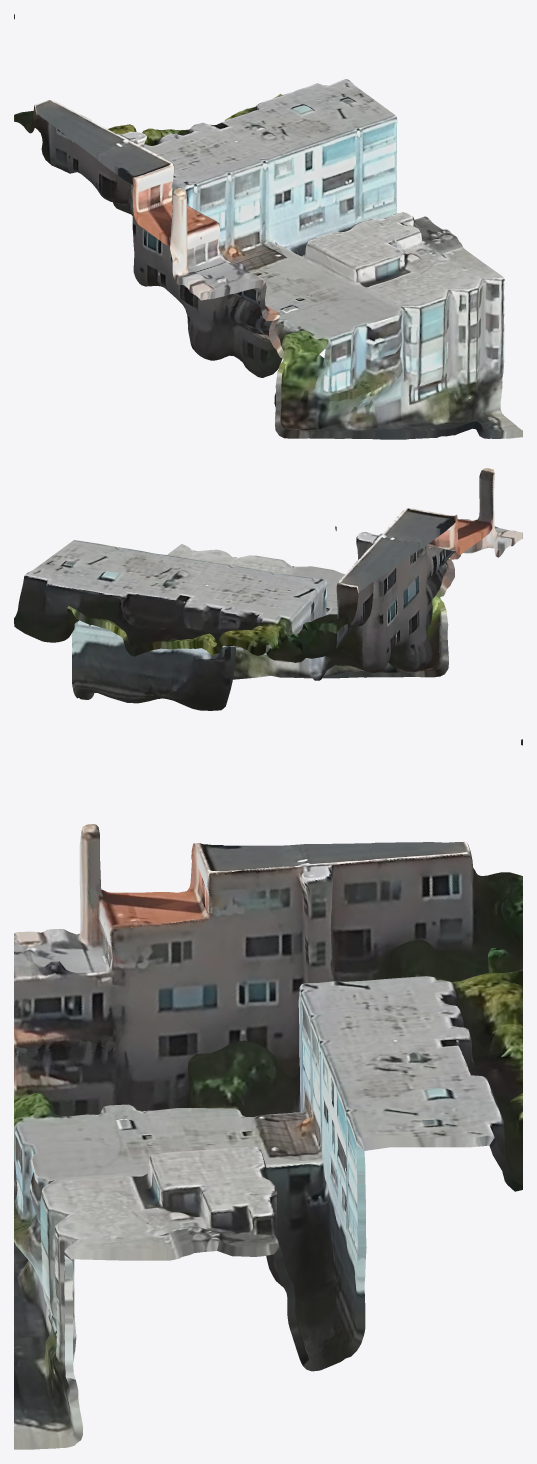
File: z20-167757-405194-h0-yup-uvflip-v3-world.glb
The picture shows the model from 3 angles, top to bottom: view 1: azimuth 30°, elevation 25°; view 2: azimuth 150°, elevation 25°; view 3: azimuth 270°, elevation 25°; orthographic projection. The views are drawn at different scales.
Bounding box in the file's own units: 30.16 × 32.64 × 30.32.
Materials: 1 (1 with a texture image).
